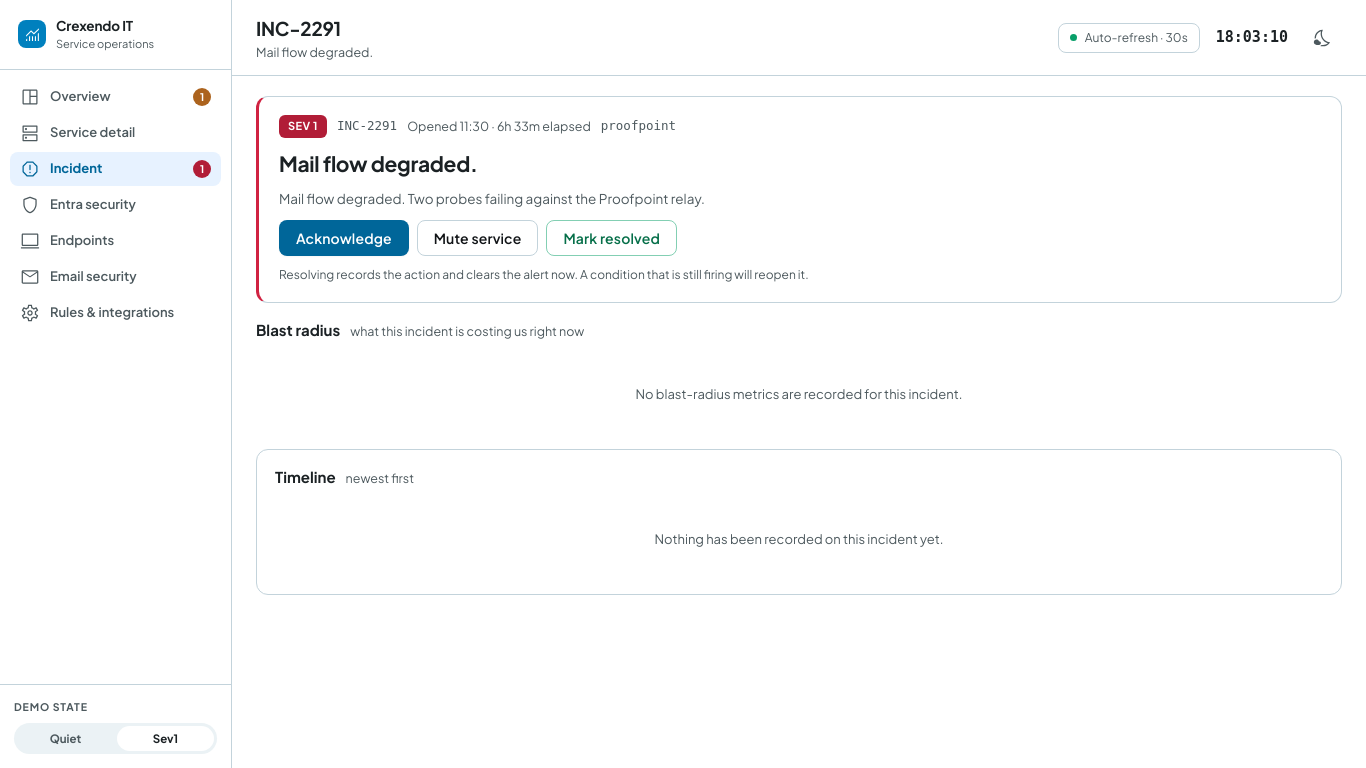
Test case: the incident detail hero writes through the same seam › acknowledges and credits the server's actor
Check: the element with test id "incident-hero" is shown, box [279,115,809,282]
Click the button "Acknowledge".
click(344, 238)  # box [279,220,409,256]
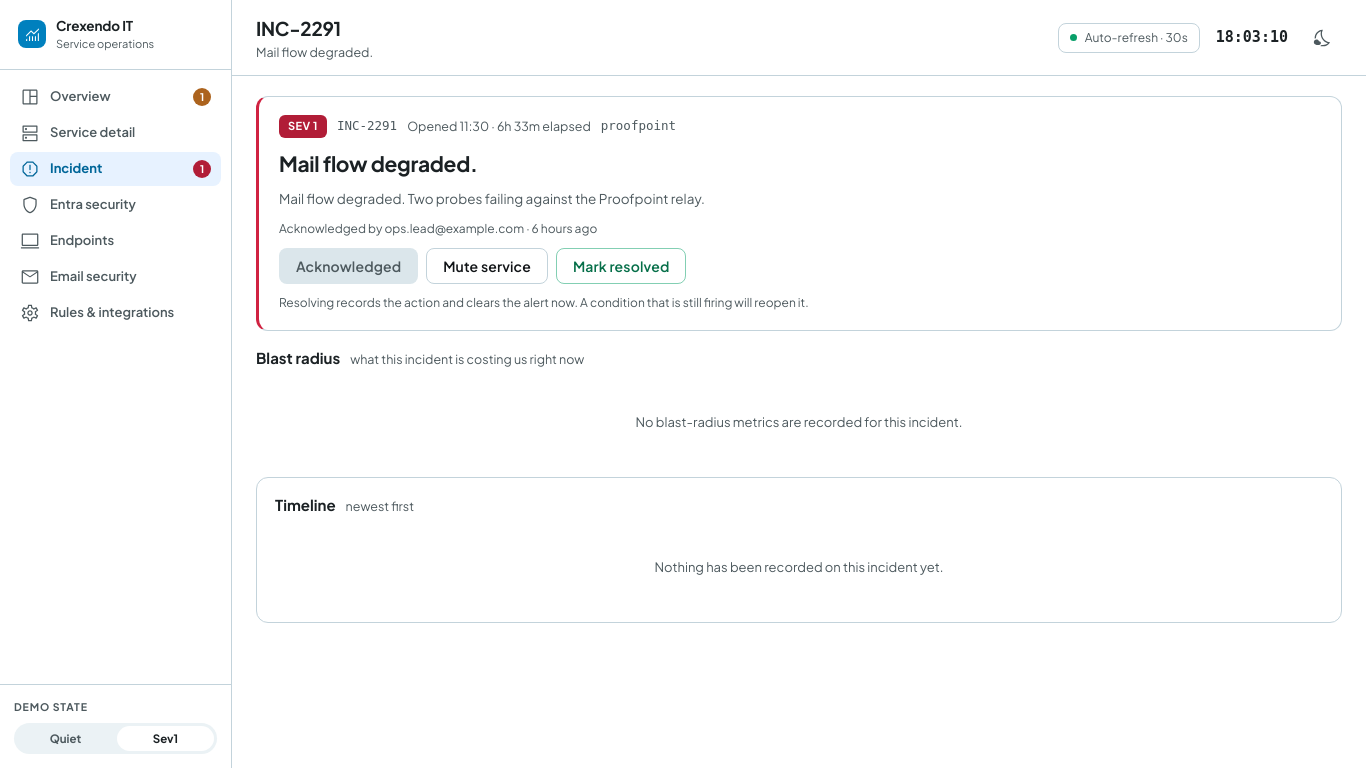
Check: the text with test id "incident-credits" shows "ops.lead@example.com", box [279,220,597,236]
